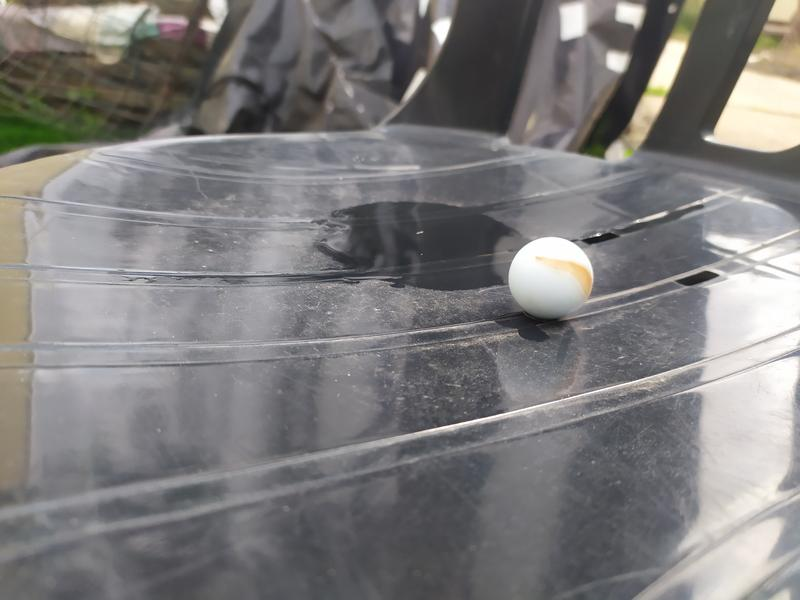Warning: (506, 234, 596, 323)
